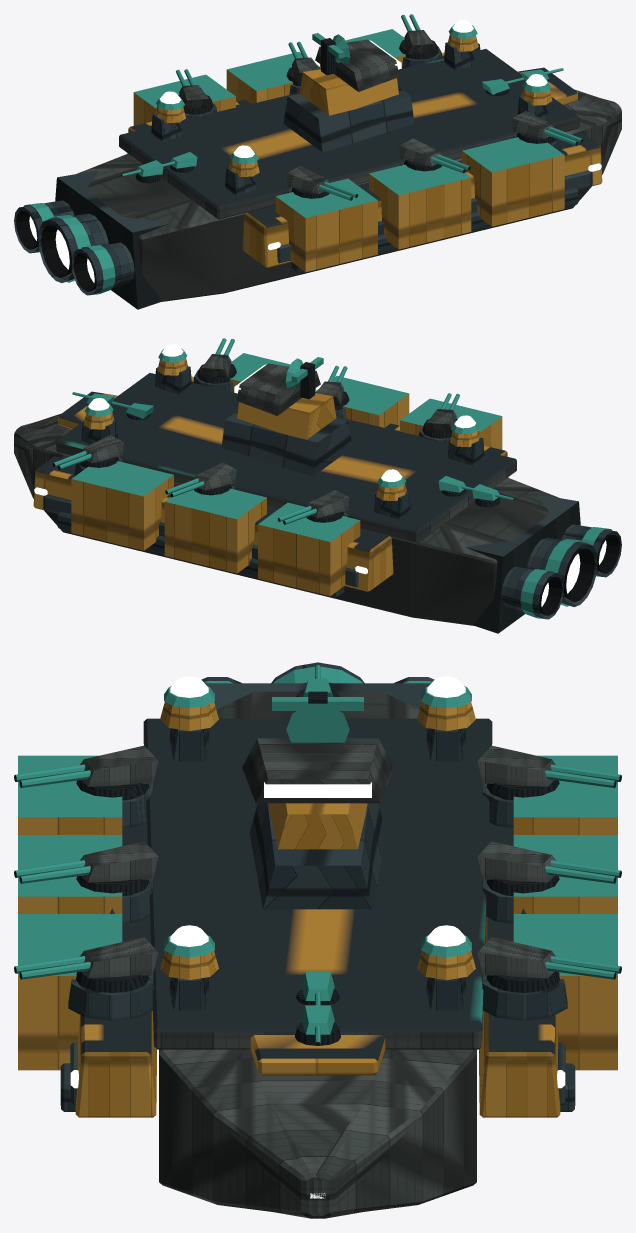
File: cruiser.glb
3 renders of one model, top to bottom at view 1: azimuth 30°, elevation 25°; view 2: azimuth 150°, elevation 25°; view 3: azimuth 270°, elevation 25°, orthographic. The views are drawn at different scales.
Visible parts, largest first — view 1: hull_body, engine_block, sensor_tower, weapon_turrets, shield_pylons; view 2: hull_body, engine_block, sensor_tower, weapon_turrets, shield_pylons; view 3: hull_body, weapon_turrets, sensor_tower, shield_pylons, engine_block.
Part boxes in pixels (<box>): hull_body: <box>77,29,621,301</box>; engine_block: <box>14,170,170,309</box>; sensor_tower: <box>283,33,414,152</box>; weapon_turrets: <box>121,14,583,200</box>; shield_pylons: <box>151,20,554,195</box>; hull_body: <box>14,353,558,625</box>; engine_block: <box>465,494,621,633</box>; sensor_tower: <box>221,357,352,476</box>; weapon_turrets: <box>52,338,514,524</box>; shield_pylons: <box>81,344,484,519</box>; hull_body: <box>18,691,617,1218</box>; weapon_turrets: <box>14,665,621,1045</box>; sensor_tower: <box>242,691,393,909</box>; shield_pylons: <box>160,676,475,1010</box>; engine_block: <box>201,662,434,709</box>.
Bounding box in the file's own units: 42 × 13.48 × 22.54.
Materials: 1 (1 with a texture image).
